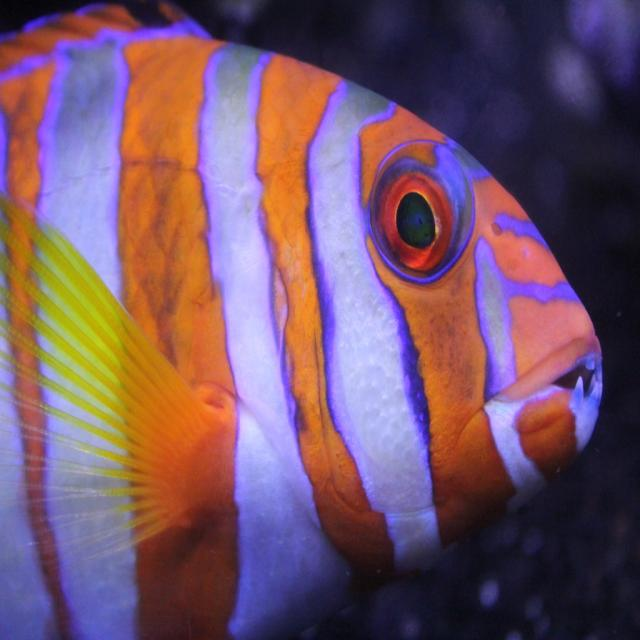Fish: (1, 4, 621, 640)
